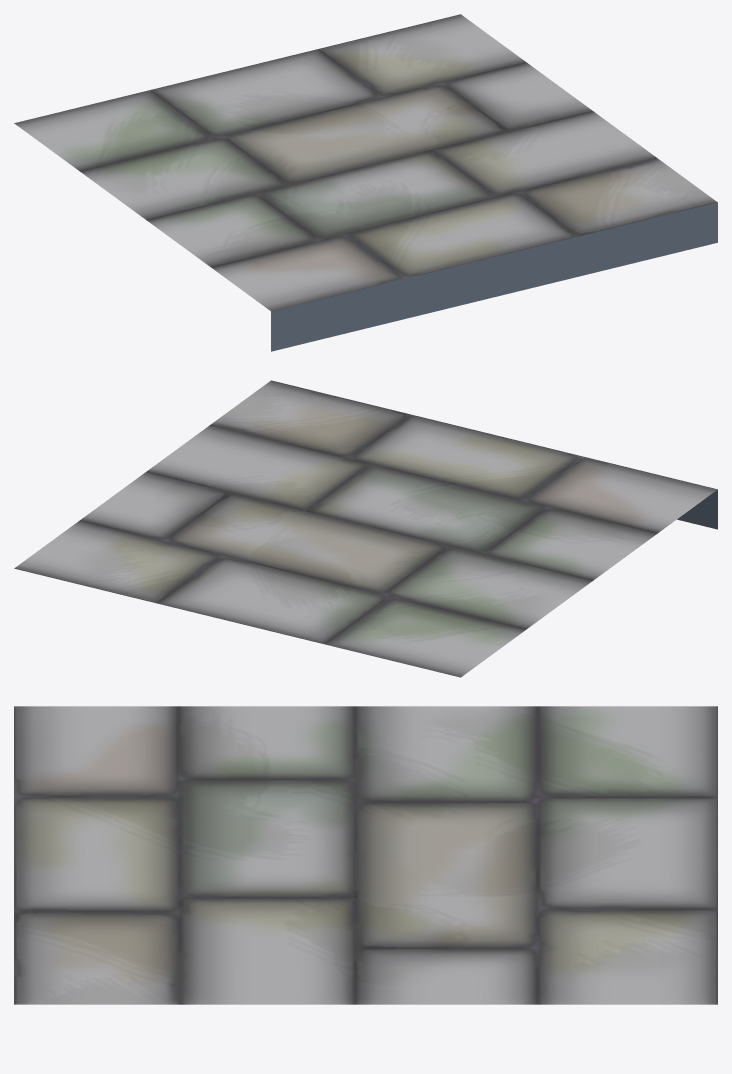
File: Path_Modern_Rectangle.fbx
The picture shows the model from 3 angles, top to bottom: view 1: azimuth 30°, elevation 25°; view 2: azimuth 150°, elevation 25°; view 3: azimuth 270°, elevation 25°; orthographic projection. The views are drawn at different scales.
Visible parts, largest first — view 1: Circle; view 2: Circle; view 3: Circle.
Boxes of the visible parts, x1,y1,x2,y2 form: Circle: (14,14,717,351); Circle: (14,380,717,677); Circle: (14,706,717,1004).
Bounding box in the file's own units: 3 × 0.2586 × 2.99.
